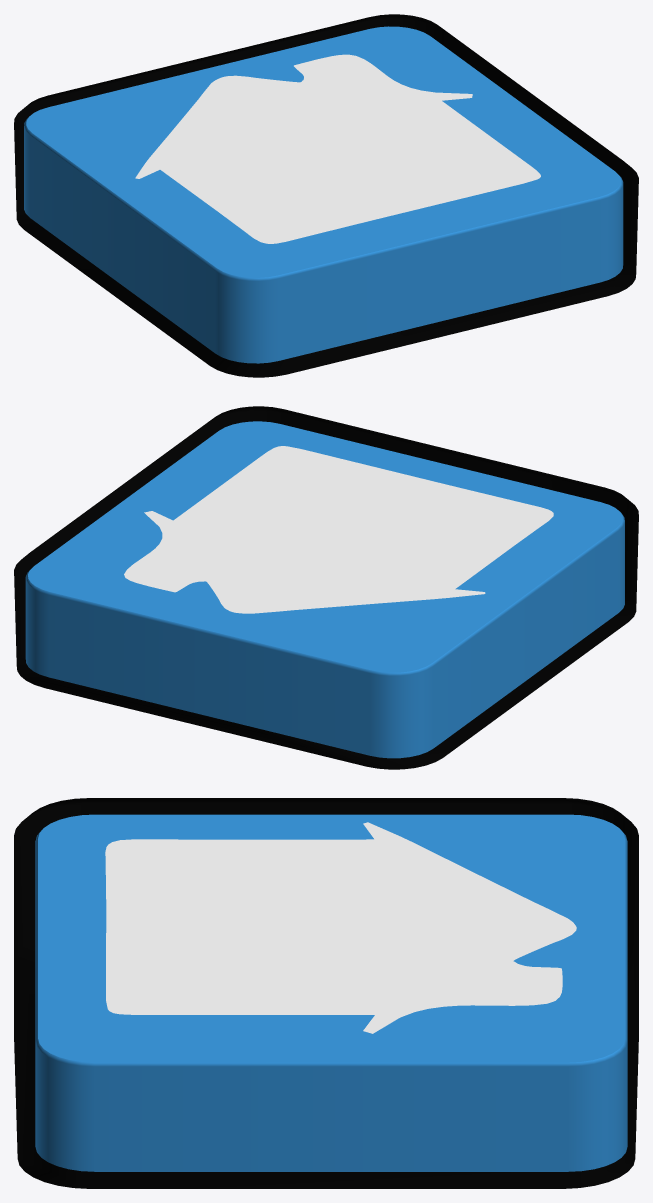
The model's file is Facility.obj.
3 views of the same model, one above another, from view 1: azimuth 30°, elevation 25°; view 2: azimuth 150°, elevation 25°; view 3: azimuth 270°, elevation 25° (orthographic). The views are drawn at different scales.
Parts seen in each view (by area): view 1: Facility; view 2: Facility; view 3: Facility.
Boxes of the visible parts, left/top/right/bottom form: Facility: left=14, top=14, right=638, bottom=377; Facility: left=14, top=406, right=638, bottom=769; Facility: left=14, top=798, right=638, bottom=1188.
Bounding box in the file's own units: 1.06 × 0.2484 × 1.06.
